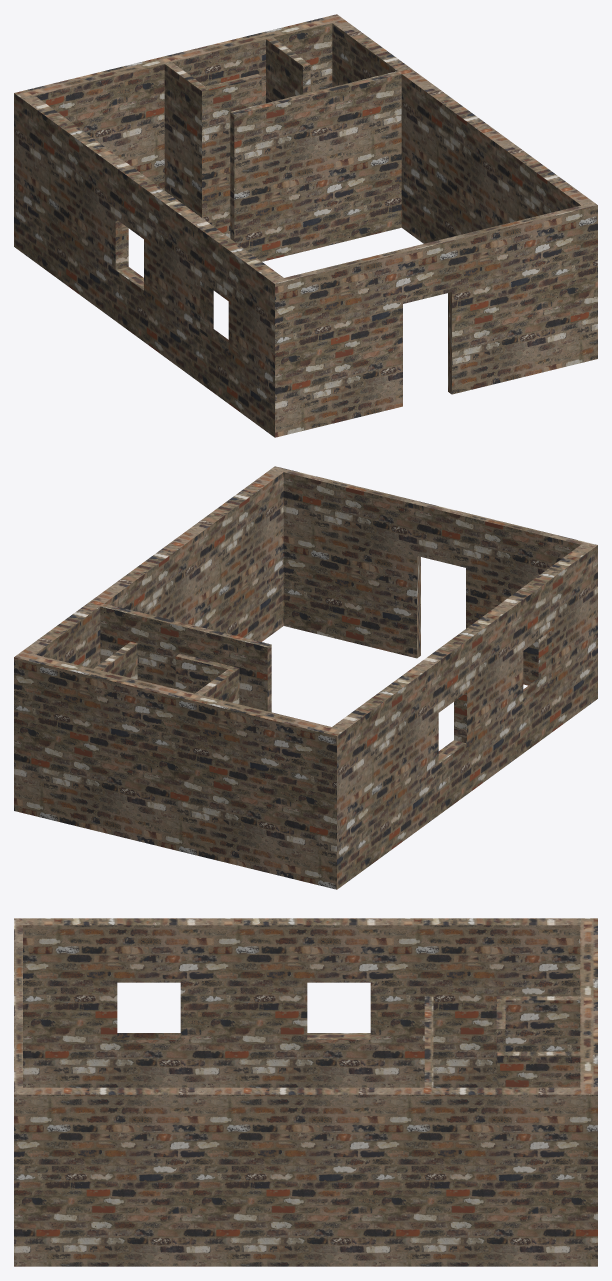
Rendered from Bar01_Paredes.fbx.
3 renders of one model, top to bottom at view 1: azimuth 30°, elevation 25°; view 2: azimuth 150°, elevation 25°; view 3: azimuth 270°, elevation 25°, orthographic. The views are drawn at different scales.
Visible parts, largest first — view 1: Walls; view 2: Walls; view 3: Walls.
Part boxes in pixels (x1,y1,x2,y2): Walls: (14,14,597,437); Walls: (14,466,597,889); Walls: (14,918,597,1266).
Size of the model in its own units: 660 by 300 by 923.
